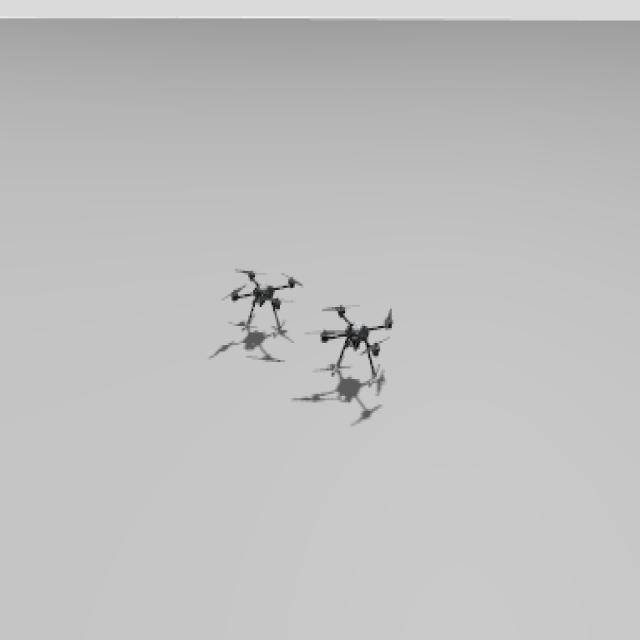drone: (316, 300, 396, 396), (218, 258, 306, 338)
